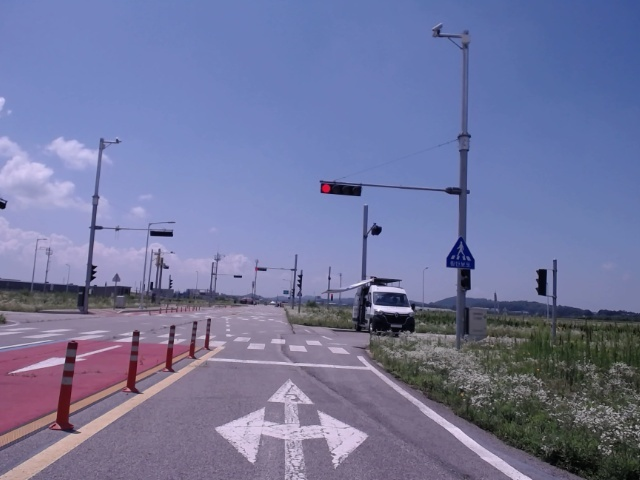red_4: (320, 184, 361, 196)
